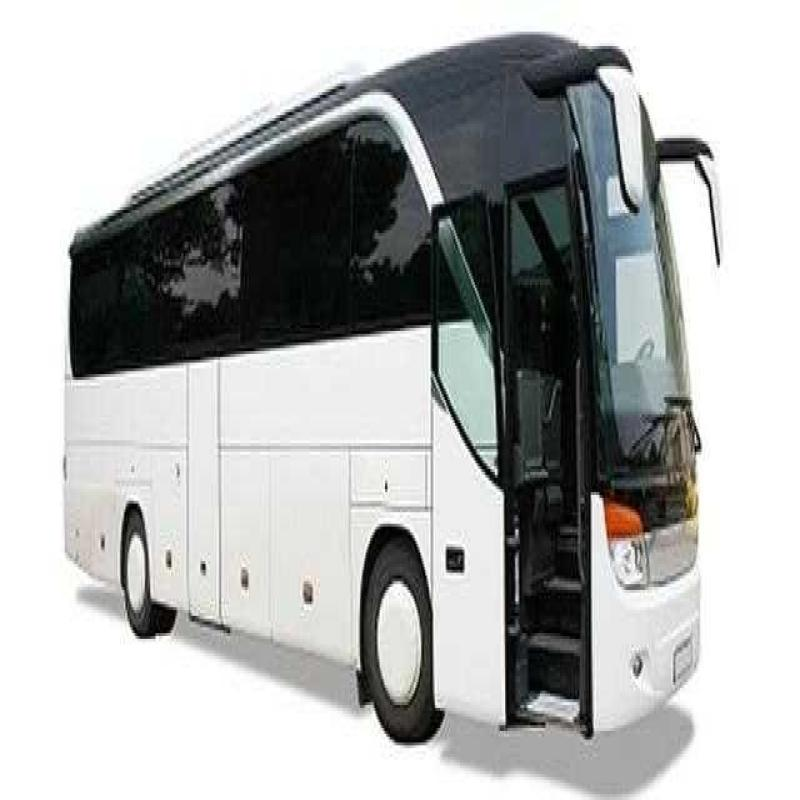bus: (34, 24, 723, 745)
